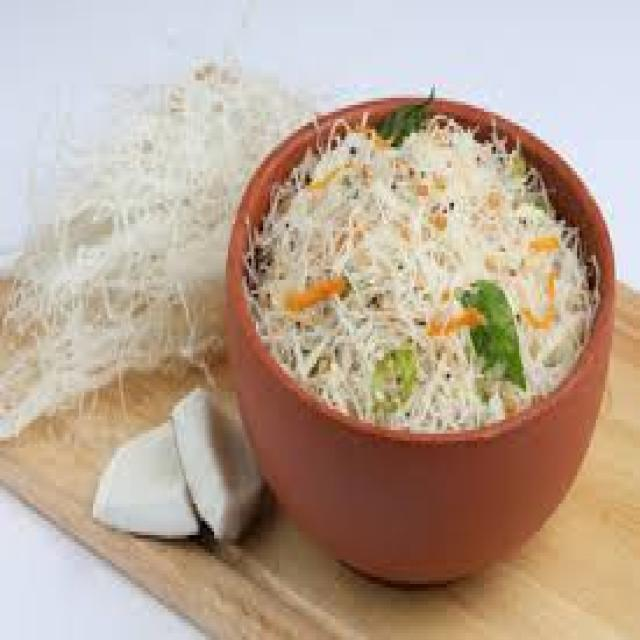UPMA: (244, 108, 598, 427)
